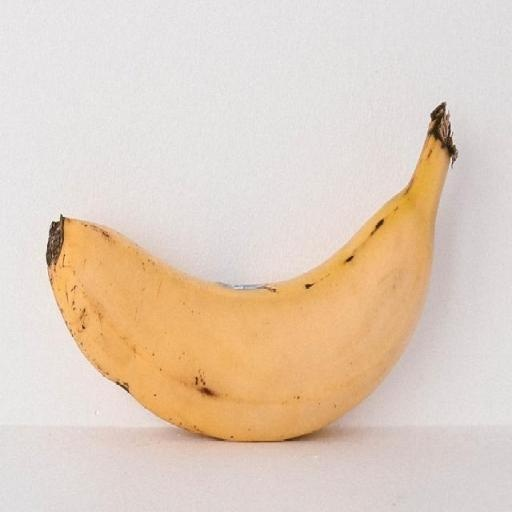fruit: (411, 58, 487, 269)
